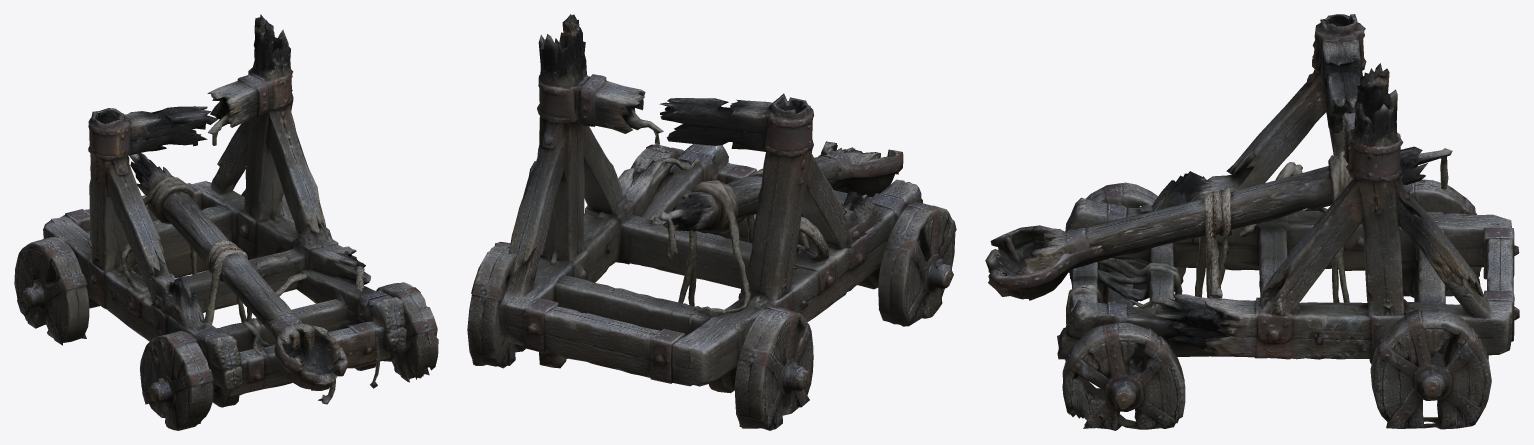
File: siege_wreck.glb
3 views of the same model, side by side, from view 1: azimuth 30°, elevation 25°; view 2: azimuth 150°, elevation 25°; view 3: azimuth 270°, elevation 25° (orthographic). The views are drawn at different scales.
Visible parts, largest first — view 1: tripo_node_b1ca58fd-cf30-4ab3-84ad-9cb5f6a6e7d1; view 2: tripo_node_b1ca58fd-cf30-4ab3-84ad-9cb5f6a6e7d1; view 3: tripo_node_b1ca58fd-cf30-4ab3-84ad-9cb5f6a6e7d1.
Boxes of the visible parts, x1=… form: tripo_node_b1ca58fd-cf30-4ab3-84ad-9cb5f6a6e7d1: x1=14, y1=14, x2=438, y2=430; tripo_node_b1ca58fd-cf30-4ab3-84ad-9cb5f6a6e7d1: x1=467, y1=14, x2=956, y2=430; tripo_node_b1ca58fd-cf30-4ab3-84ad-9cb5f6a6e7d1: x1=985, y1=14, x2=1519, y2=430.
Bounding box in the file's own units: 0.7208 × 0.7167 × 1.
1 material, 1 textured.
